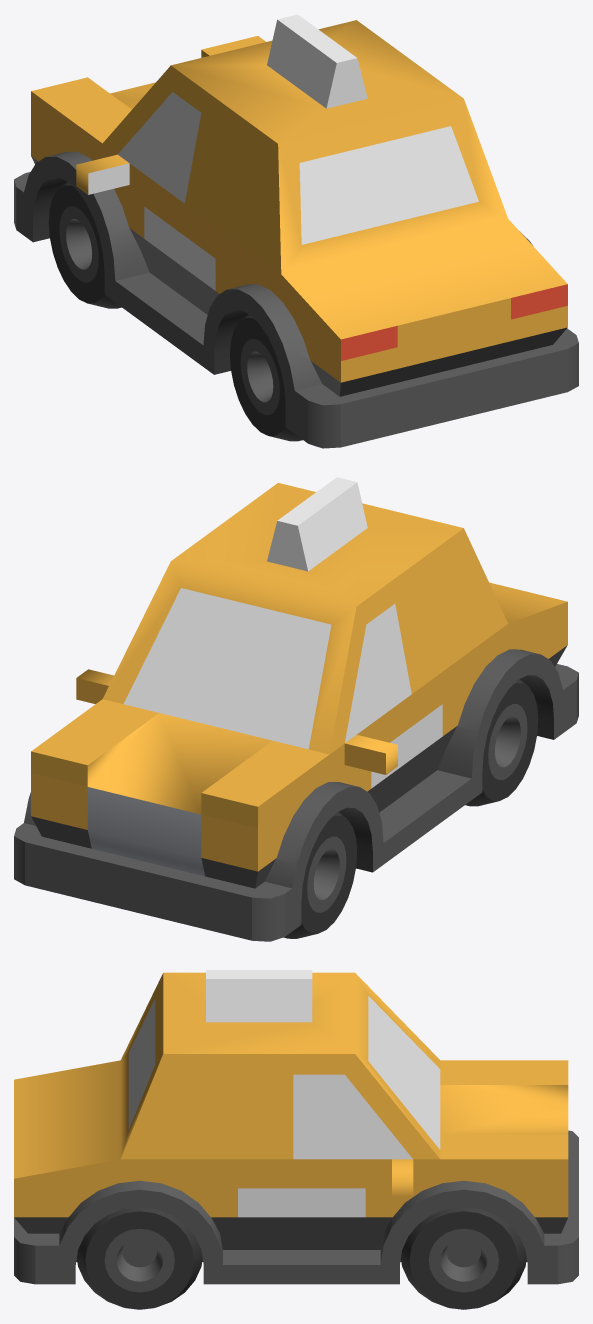
Rendered from taxi.gltf.
3 views of the same model, one above another, from view 1: azimuth 30°, elevation 25°; view 2: azimuth 150°, elevation 25°; view 3: azimuth 270°, elevation 25° (orthographic). The views are drawn at different scales.
Visible parts, largest first — view 1: body, wheel_backLeft, wheel_frontLeft; view 2: body, wheel_backLeft, wheel_frontLeft; view 3: body, wheel_backRight, wheel_frontRight.
Part boxes in pixels (bbox=[...]): body: bbox=[14, 14, 578, 448]; wheel_backLeft: bbox=[230, 314, 302, 441]; wheel_frontLeft: bbox=[48, 181, 121, 308]; body: bbox=[14, 477, 578, 941]; wheel_backLeft: bbox=[465, 679, 538, 806]; wheel_frontLeft: bbox=[284, 811, 356, 938]; body: bbox=[14, 970, 578, 1284]; wheel_backRight: bbox=[77, 1207, 202, 1309]; wheel_frontRight: bbox=[401, 1207, 526, 1309].
Size of the model in its own units: 1.5 by 1.5 by 2.65.
